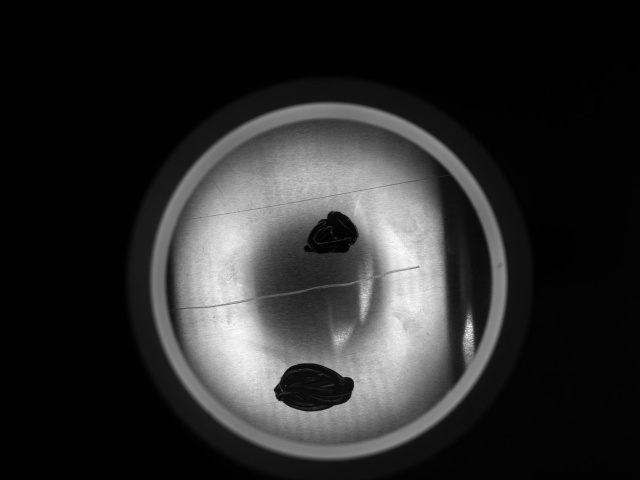ca_shang: (175, 175, 443, 220), (168, 263, 423, 310)
zang_wu: (270, 362, 356, 413), (302, 208, 361, 258)
